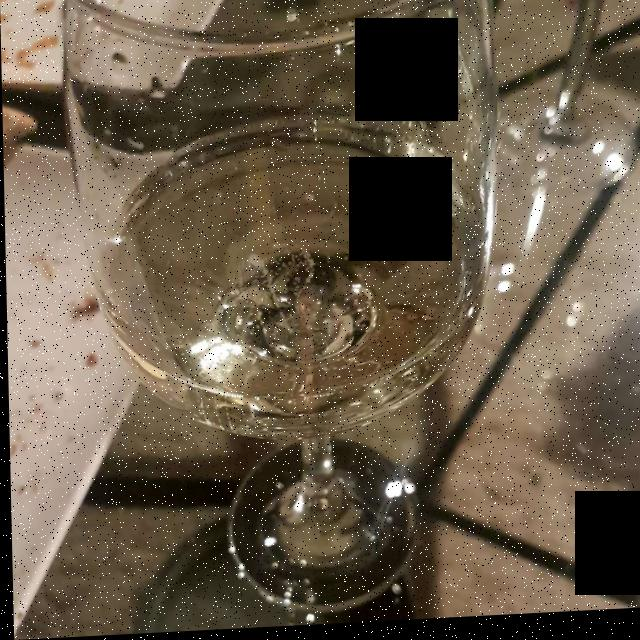prosecco: (94, 128, 477, 431)
